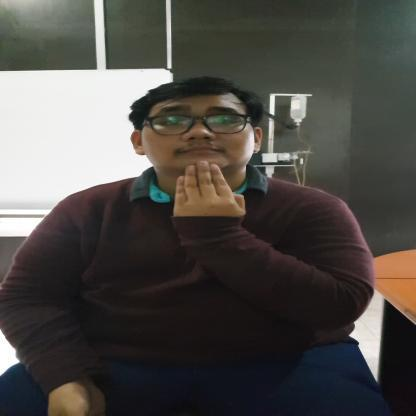Selamat-Terimakasih: (162, 156, 250, 228)
